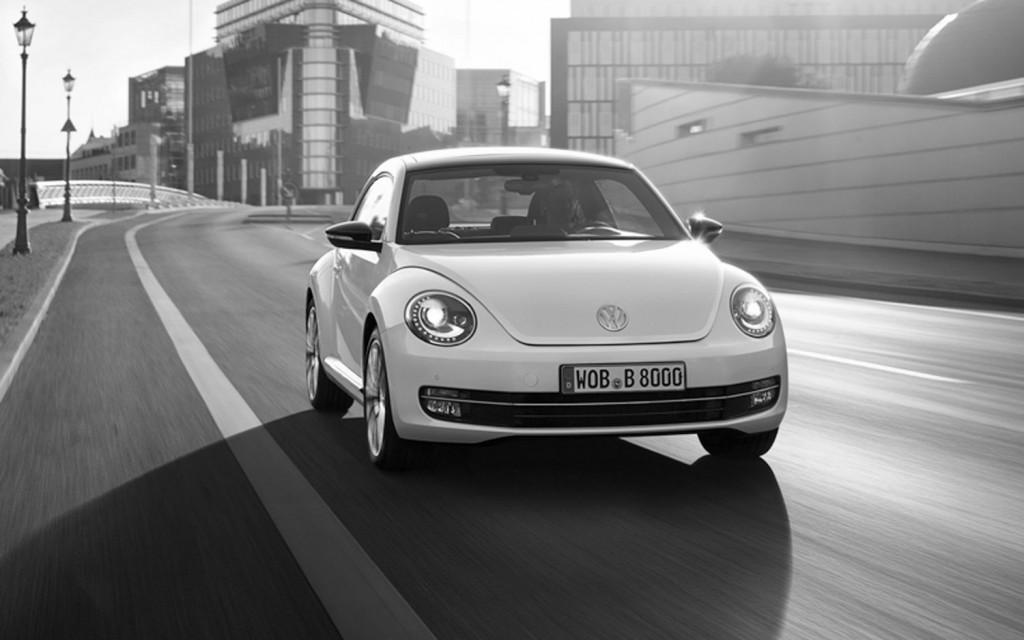car: (303, 145, 797, 478)
